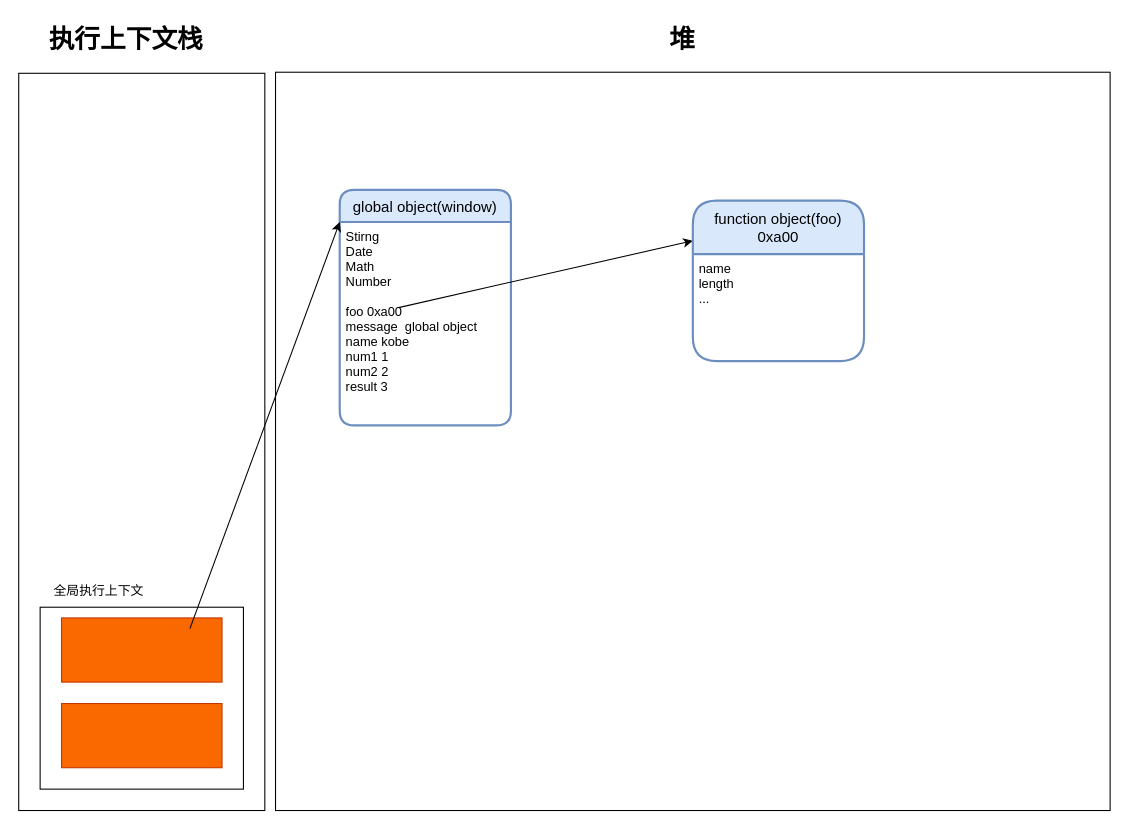
The diagram is 1129 pixels wide and 829 high, and some of its shapes have lost their labels. Each missing label, with the centre of its shape:
"VO GO scope chain this" belongs at (141,649).
"开始一行行执行代码" belongs at (141,735).
